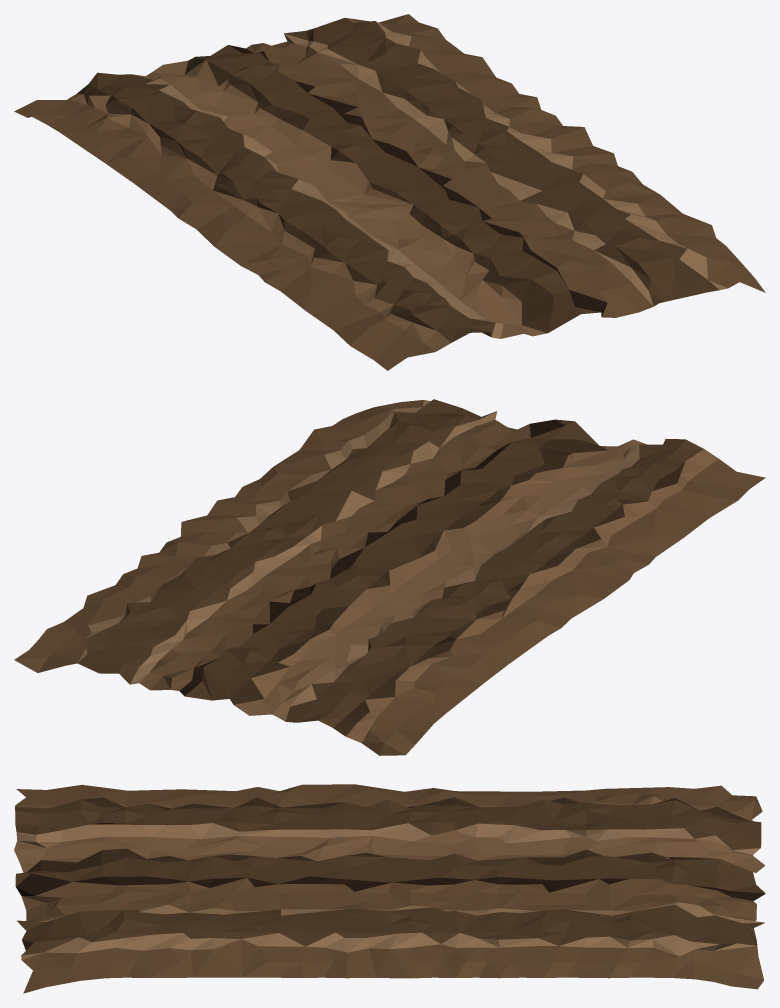
Rendered from EA_M_Env_Road_Mud_01c.fbx.
The picture shows the model from 3 angles, top to bottom: view 1: azimuth 30°, elevation 25°; view 2: azimuth 150°, elevation 25°; view 3: azimuth 270°, elevation 25°; orthographic projection.
Visible parts, largest first — view 1: EA_M_Env_Road_Mud_01c_LOD0; view 2: EA_M_Env_Road_Mud_01c_LOD0; view 3: EA_M_Env_Road_Mud_01c_LOD0.
Part boxes in pixels (x1,y1,x2,y2): EA_M_Env_Road_Mud_01c_LOD0: [14, 14, 765, 370]; EA_M_Env_Road_Mud_01c_LOD0: [14, 399, 765, 755]; EA_M_Env_Road_Mud_01c_LOD0: [14, 784, 765, 993].
Size of what is drawn, in the model's own units: 3.99 by 0.3482 by 6.46.
